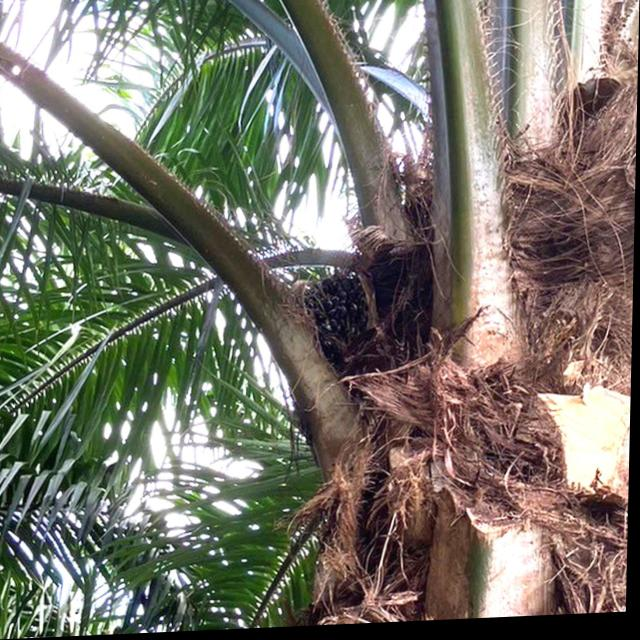unripe: (299, 266, 401, 368)
